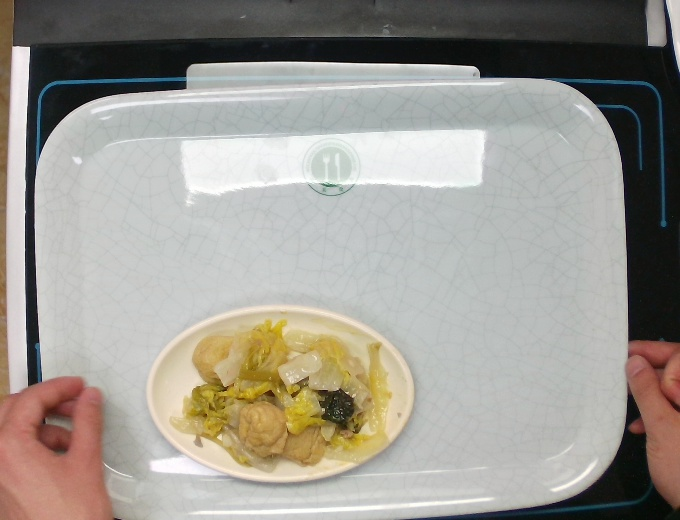JYsf-Tuo_Yuan_Wan: (140, 301, 419, 487)
